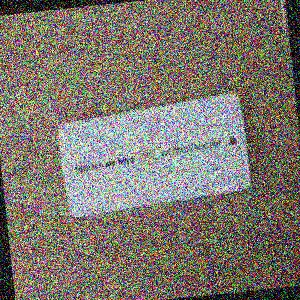women_secret: (144, 69, 300, 206)
